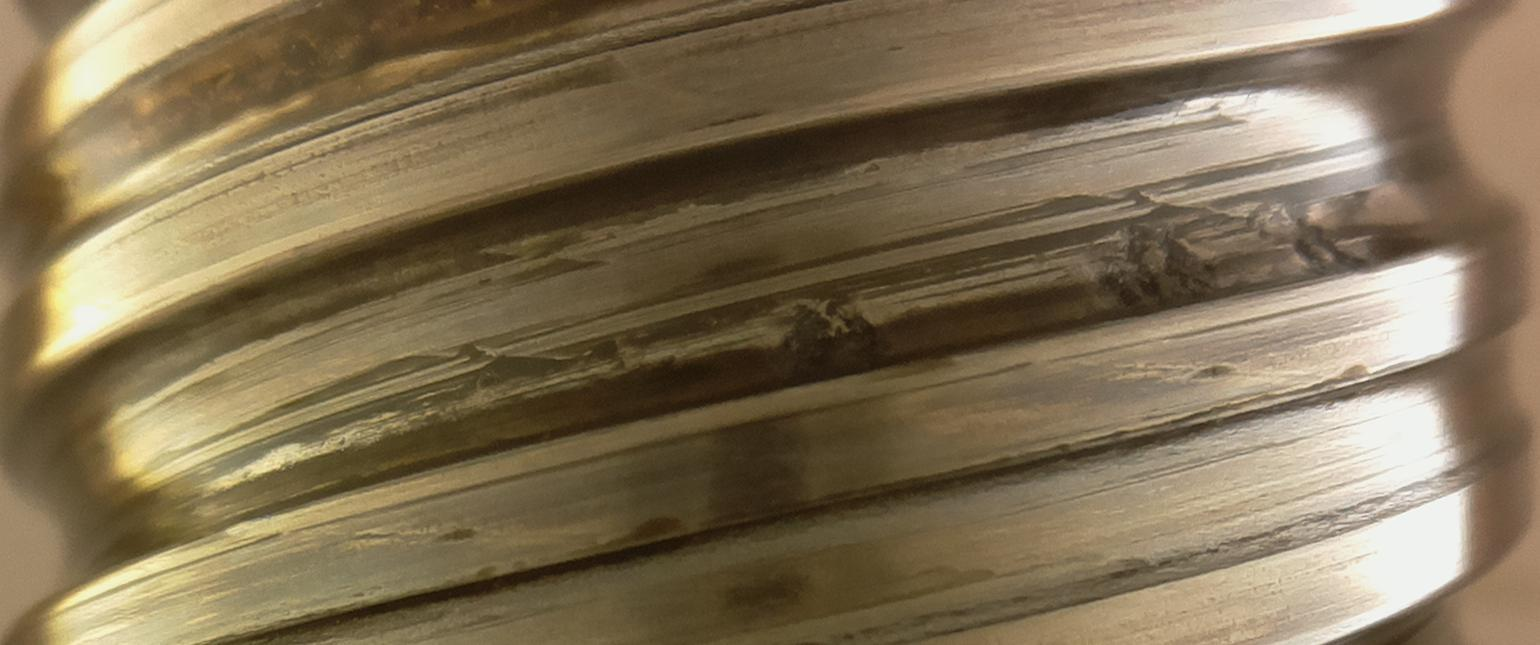pitting: (1094, 228, 1216, 306), (776, 293, 884, 379), (1293, 216, 1365, 270)
